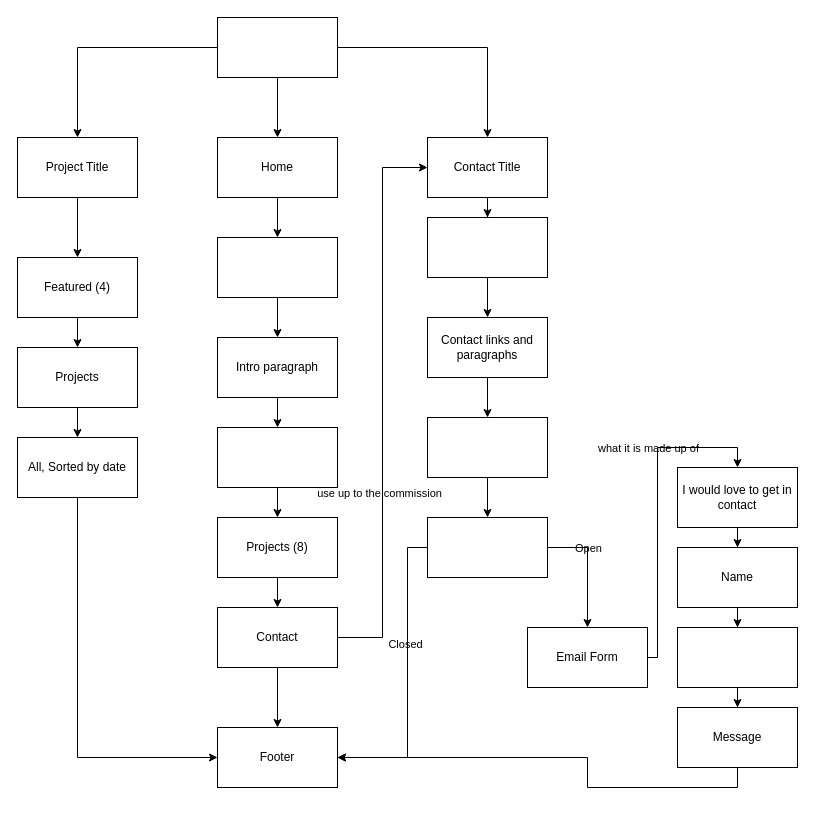
Image size: 815x813. Some labels were removed from this diagram. Each missing label, with the centre of its shape:
"Comission" goes at [487,447].
"Email" goes at [737,657].
"Header" goes at [277,47].
"Image profession photo" goes at [487,247].
"Intro" goes at [277,267].
"Open/Close" goes at [487,547].
"Technologies" goes at [277,457].
